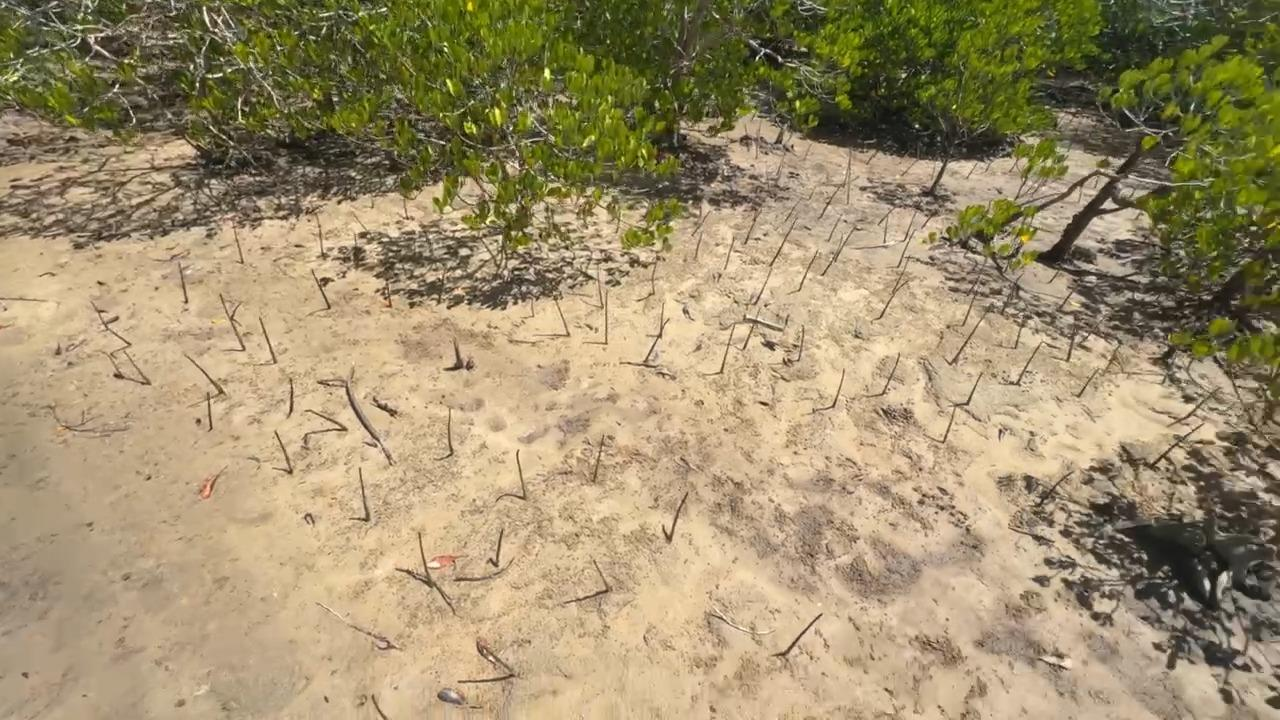Tree: (315, 601, 398, 648), (460, 198, 501, 269), (1149, 423, 1205, 469), (950, 311, 987, 366), (1160, 328, 1194, 384), (90, 300, 132, 344), (784, 613, 824, 655), (475, 637, 518, 676), (184, 354, 224, 394), (966, 244, 995, 297), (393, 172, 423, 221), (649, 236, 673, 295), (1037, 470, 1075, 506), (769, 218, 797, 266), (1183, 387, 1222, 419), (1015, 341, 1043, 384), (999, 272, 1025, 316), (1185, 335, 1215, 373), (668, 491, 689, 542), (303, 409, 348, 432), (123, 350, 152, 385), (417, 531, 434, 588), (258, 316, 278, 364), (880, 352, 901, 395), (798, 249, 819, 292), (274, 429, 293, 475), (821, 237, 843, 276), (719, 324, 736, 373), (891, 255, 912, 294), (1008, 143, 1035, 173), (817, 186, 840, 221), (311, 269, 331, 309), (897, 228, 917, 268), (742, 307, 761, 349), (752, 268, 773, 306), (93, 349, 122, 376), (834, 226, 855, 263), (358, 466, 371, 522), (553, 296, 571, 336), (591, 434, 605, 482), (1077, 368, 1099, 397), (961, 290, 978, 327), (744, 210, 762, 244), (1079, 318, 1102, 344), (229, 318, 246, 352), (966, 372, 983, 406), (516, 449, 527, 500), (831, 368, 845, 408), (1103, 344, 1122, 373), (691, 210, 711, 237), (1093, 158, 1111, 188), (942, 406, 956, 444), (874, 295, 895, 320), (593, 560, 610, 590), (642, 334, 659, 362), (827, 213, 843, 242), (723, 236, 736, 270), (178, 261, 188, 305), (1065, 323, 1076, 362), (233, 226, 244, 264), (371, 694, 387, 720), (784, 197, 800, 223), (314, 212, 323, 256), (352, 213, 370, 235), (597, 263, 605, 309), (219, 292, 232, 320), (495, 528, 504, 568), (1014, 318, 1025, 349), (453, 336, 463, 370), (447, 406, 454, 454), (286, 377, 294, 419), (901, 159, 918, 177), (0, 297, 48, 303), (921, 211, 937, 229), (1059, 290, 1074, 309), (604, 289, 609, 344), (755, 121, 762, 160), (206, 392, 213, 430), (797, 324, 804, 361), (694, 230, 703, 258), (659, 301, 665, 340), (1049, 265, 1061, 284), (846, 150, 850, 205), (385, 279, 392, 309), (865, 149, 878, 165), (966, 163, 979, 179), (744, 124, 750, 152), (804, 143, 812, 160), (530, 298, 535, 317), (929, 166, 935, 180), (1078, 184, 1082, 203), (985, 162, 992, 172), (370, 192, 374, 209)
